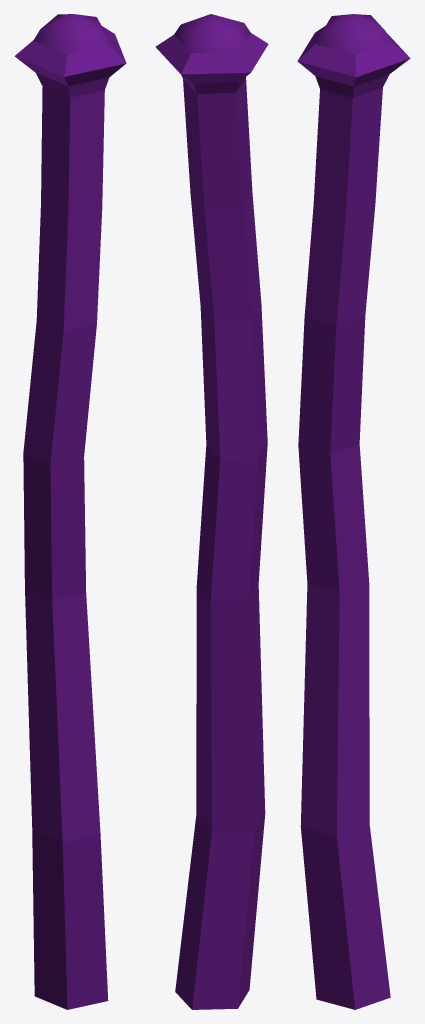
File: pole2.FBX
3 views of the same model, side by side, from view 1: azimuth 30°, elevation 25°; view 2: azimuth 150°, elevation 25°; view 3: azimuth 330°, elevation 25° (orthographic).
Visible parts, largest first — view 1: pole; view 2: pole; view 3: pole.
Part boxes in pixels (x1=…): pole: x1=14, y1=14, x2=126, y2=1009; pole: x1=155, y1=14, x2=268, y2=1009; pole: x1=297, y1=14, x2=410, y2=1009.
Size of the model in its own units: 30.26 by 289 by 29.2.
